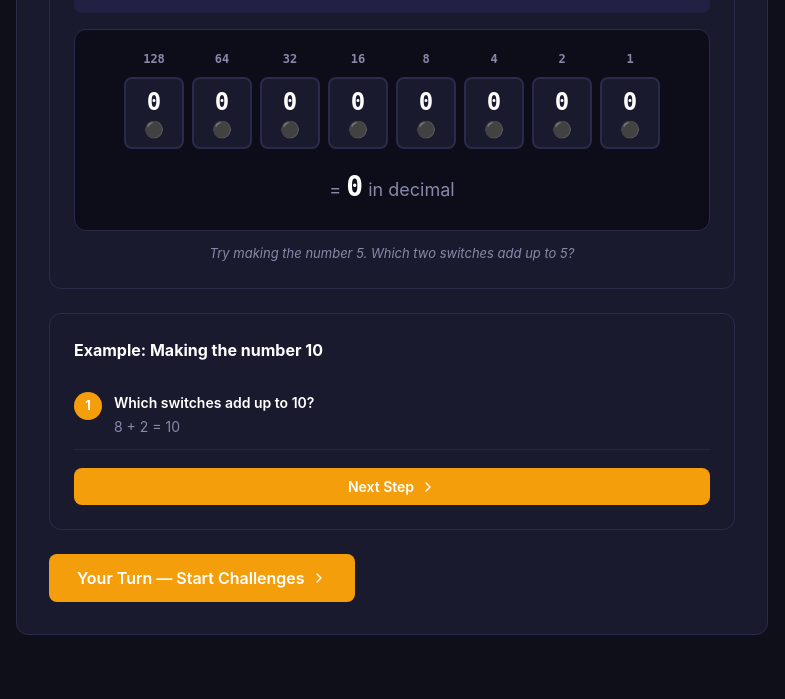
Test case: ModulePage navigation › shows challenges when "Start Challenges" is clicked
(page scrolled)
Click the button with test id "start-challenges". click: (202, 578)
box: left=49, top=554, right=355, bottom=602
(page scrolled)
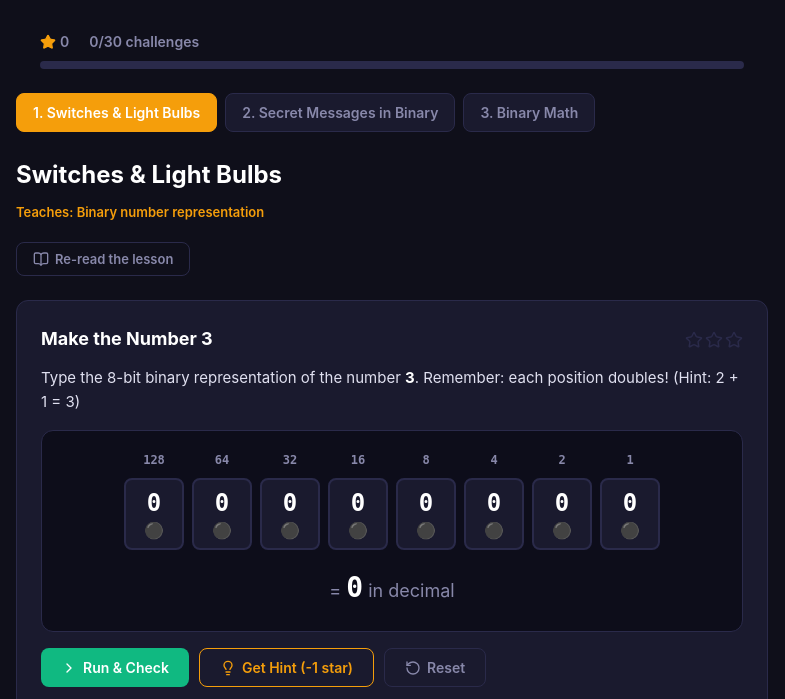
Expected: the button with test id "start-challenges" is gone
Expected: the heading "Make the Number 3" is shown, left=41, top=325, right=213, bottom=354
